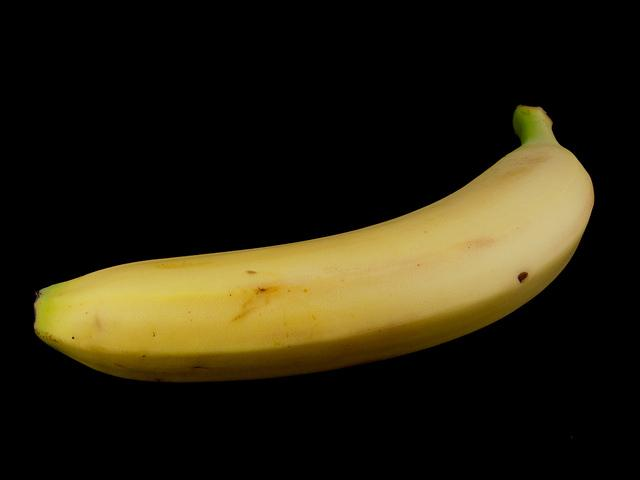Banana Fresh: (15, 205, 606, 376)
